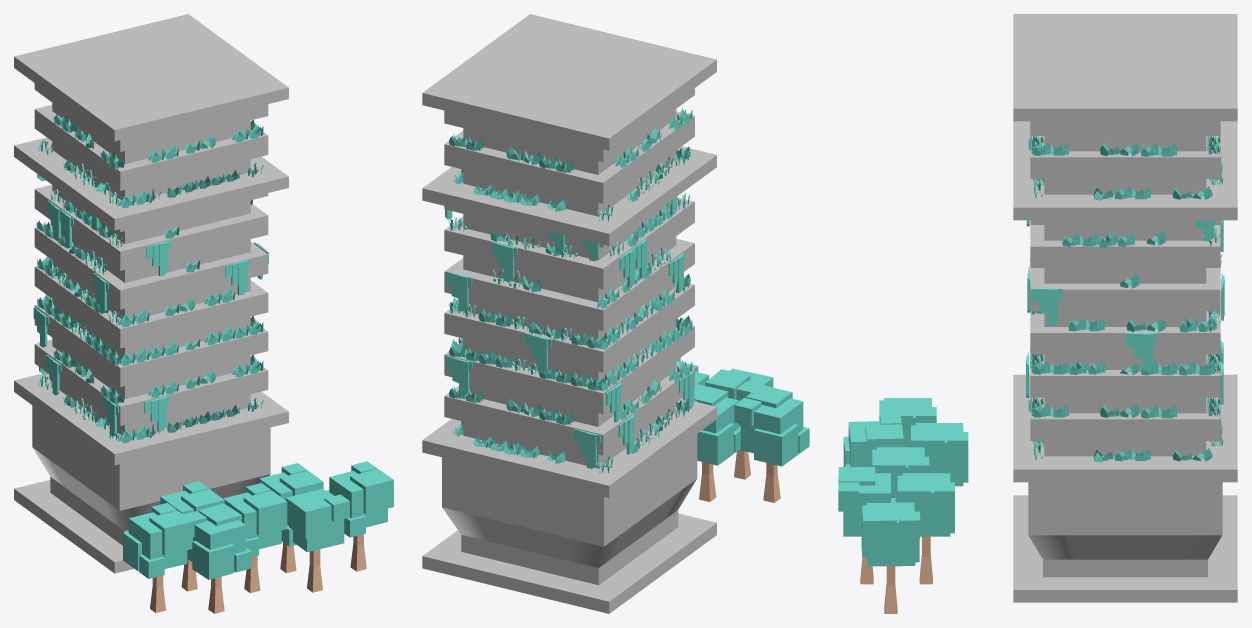
Rendered from arboles.fbx.
3 renders of one model, left to right at view 1: azimuth 30°, elevation 25°; view 2: azimuth 150°, elevation 25°; view 3: azimuth 270°, elevation 25°, orthographic. The views are drawn at different scales.
Visible parts, largest first — view 1: columna_depas, techo_depas, tree_blocks7, base_ejecutivo; view 2: columna_depas, techo_depas, base_ejecutivo, tree_blocks7; view 3: columna_depas, techo_depas, base_ejecutivo, tree_blocks7.
Boxes of the visible parts, bbox=[...] form: columna_depas: bbox=[14, 174, 288, 465]; techo_depas: bbox=[14, 14, 288, 230]; tree_blocks7: bbox=[123, 461, 393, 613]; base_ejecutivo: bbox=[14, 405, 270, 573]; columna_depas: bbox=[422, 193, 716, 497]; techo_depas: bbox=[422, 14, 716, 245]; base_ejecutivo: bbox=[422, 434, 716, 613]; tree_blocks7: bbox=[676, 358, 809, 502]; columna_depas: bbox=[1013, 220, 1237, 482]; techo_depas: bbox=[1013, 14, 1237, 220]; base_ejecutivo: bbox=[1013, 482, 1237, 602]; tree_blocks7: bbox=[838, 398, 968, 613].
Bounding box in the file's own units: 2731 × 4867 × 3561.
